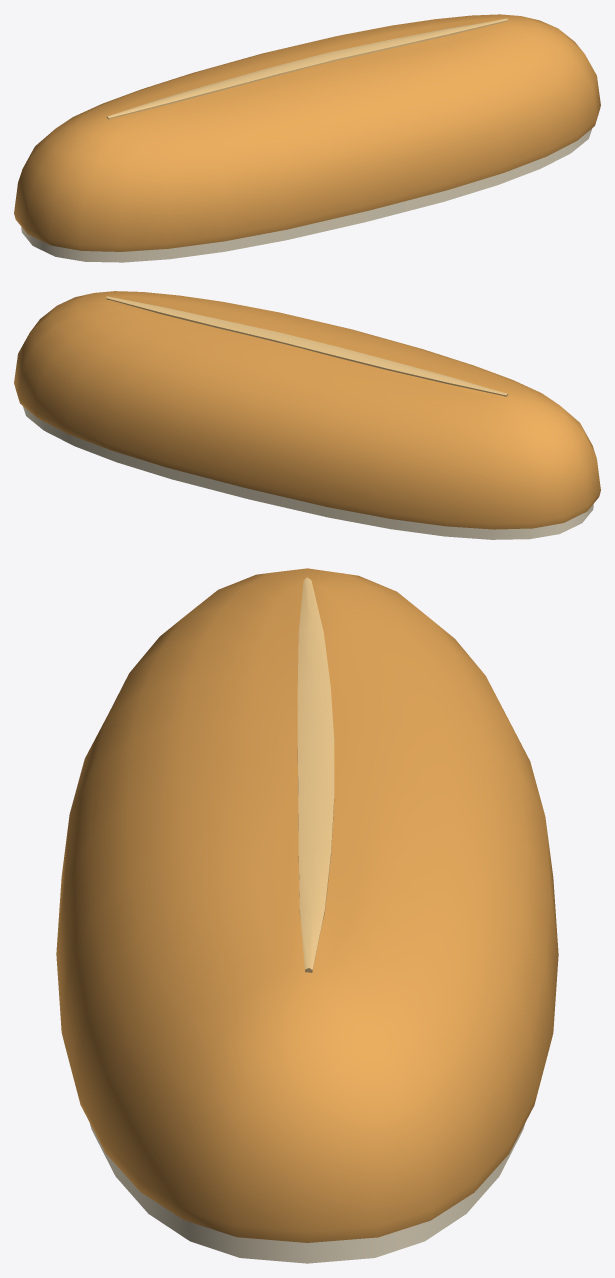
The model's file is Food_WhiteSub_Top.fbx.
3 renders of one model, top to bottom at view 1: azimuth 30°, elevation 25°; view 2: azimuth 150°, elevation 25°; view 3: azimuth 270°, elevation 25°, orthographic. The views are drawn at different scales.
Parts seen in each view (by area): view 1: Crust, Crumb, Split; view 2: Crust, Crumb, Split; view 3: Crust, Split, Crumb.
Boxes of the visible parts, bbox=[...] form: Crust: bbox=[14, 14, 600, 251]; Crumb: bbox=[21, 128, 592, 262]; Split: bbox=[106, 18, 507, 119]; Crust: bbox=[14, 291, 600, 529]; Crumb: bbox=[23, 406, 593, 539]; Split: bbox=[106, 296, 508, 396]; Crust: bbox=[56, 568, 558, 1242]; Split: bbox=[297, 577, 334, 972]; Crumb: bbox=[90, 1123, 524, 1263].
Bounding box in the file's own units: 220 × 43.81 × 85.
